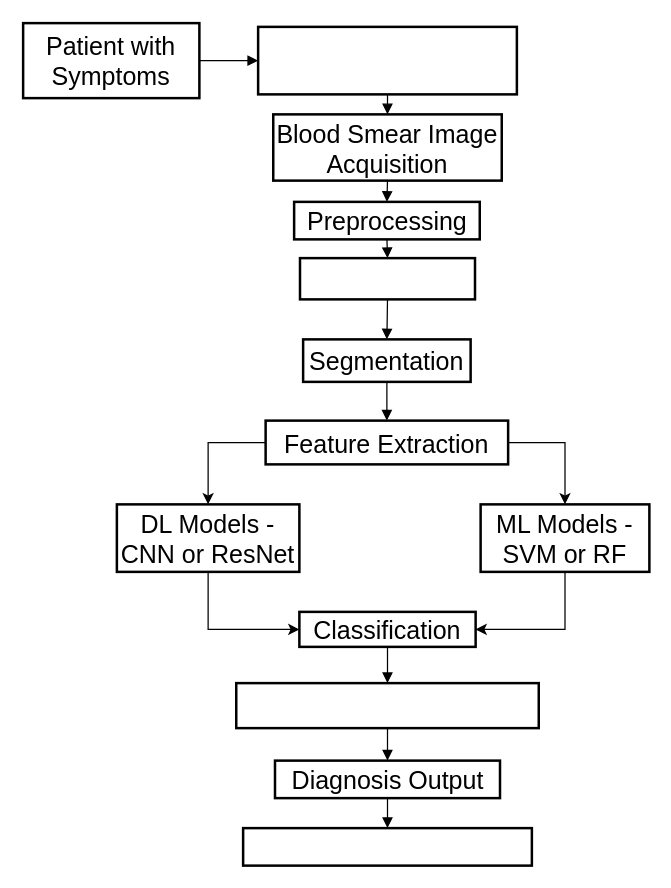
The diagram is 671 pixels wide and 888 high, and some of its shapes have lost their labels. The centre of each missing label's shape, as x and y in pixels:
Augmentation: point (387, 278)
Clinical Decision Making: point (386, 846)
Traditional Diagnosis: point (387, 60)
Validation and Evaluation: point (386, 705)
